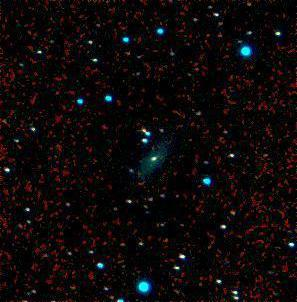star: (141, 115, 171, 145)
